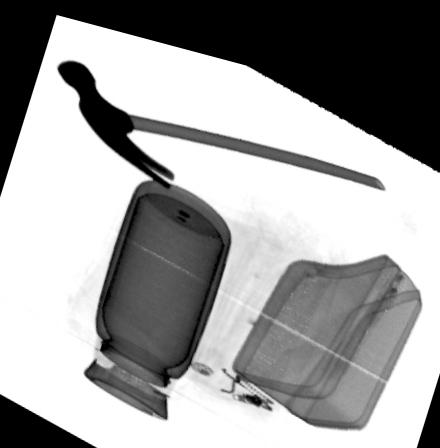Hammer: (56, 55, 386, 179)
